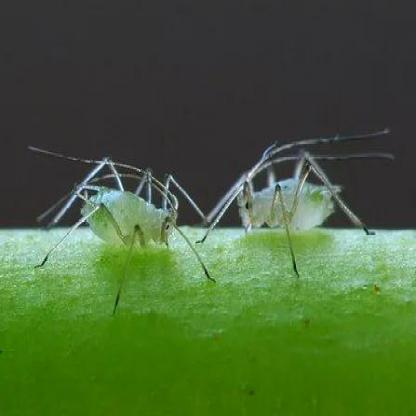aphid: (19, 140, 218, 306), (216, 129, 396, 262)
